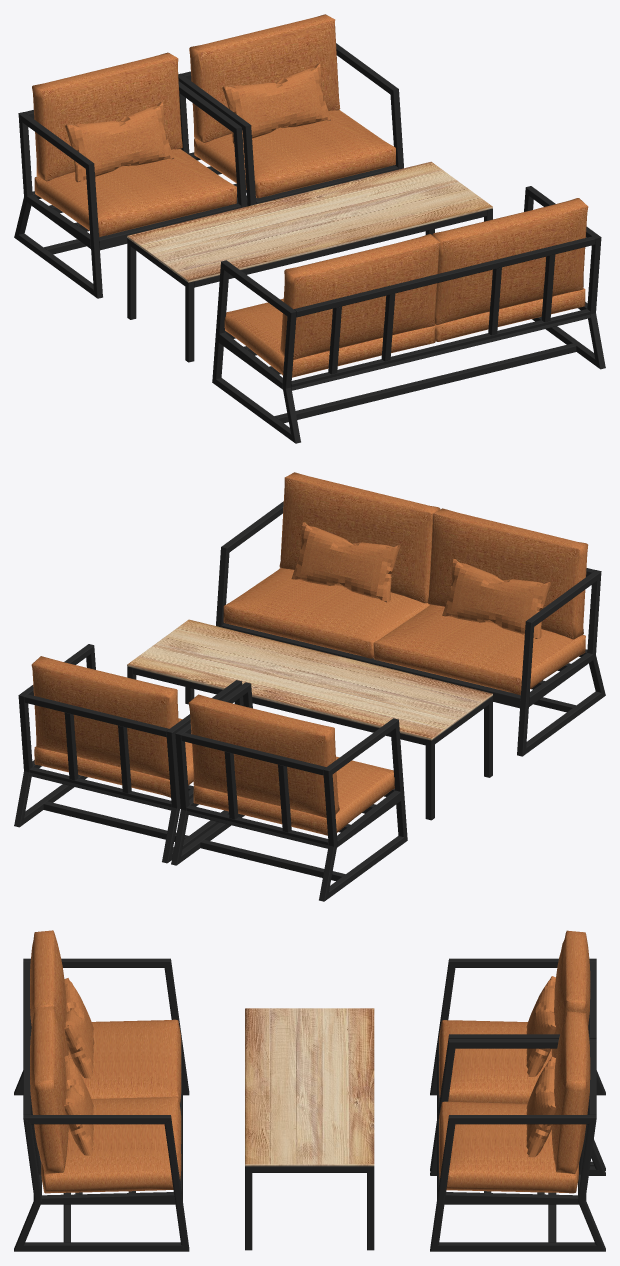
The model's file is modern-industrial-outdoor-sofa-set.glb.
3 renders of one model, top to bottom at view 1: azimuth 30°, elevation 25°; view 2: azimuth 150°, elevation 25°; view 3: azimuth 270°, elevation 25°, orthographic. The views are drawn at different scales.
Visible parts, largest first — view 1: Object_6, Object_4, Object_22; view 2: Object_6, Object_4, Object_22; view 3: Object_6, Object_4, Object_22.
Part boxes in pixels (x1,y1,x2,y2): Object_6: (32,14,588,377); Object_4: (14,43,605,443); Object_22: (127,161,492,282); Object_6: (31,472,588,835); Object_4: (14,501,605,901); Object_22: (127,619,492,740); Object_6: (30,930,590,1193); Object_4: (14,958,605,1251); Object_22: (245,1008,374,1166).
Size of the model in its own units: 2.63 by 1.29 by 4.13.
3 materials, 2 textured.
